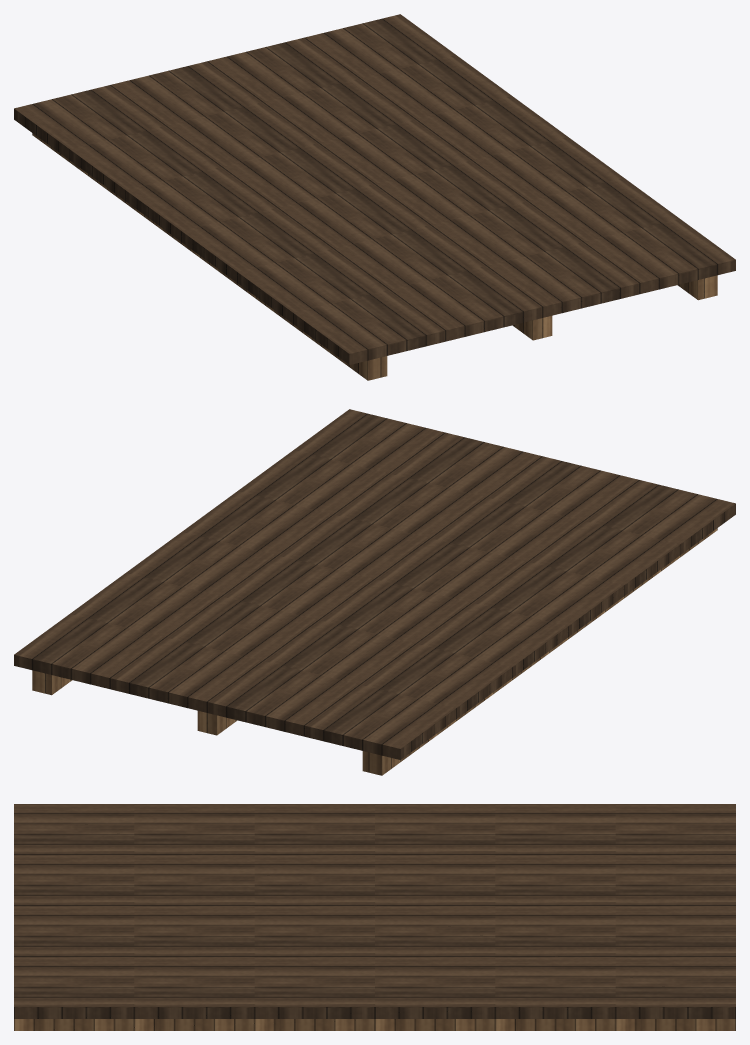
File: Drawbridge_1_LOD2.gltf
3 renders of one model, top to bottom at view 1: azimuth 30°, elevation 25°; view 2: azimuth 150°, elevation 25°; view 3: azimuth 270°, elevation 25°, orthographic. The views are drawn at different scales.
Parts seen in each view (by area): view 1: Drawbridge_1_LOD2; view 2: Drawbridge_1_LOD2; view 3: Drawbridge_1_LOD2.
Part boxes in pixels (x1,y1,x2,y2): Drawbridge_1_LOD2: [14, 14, 735, 380]; Drawbridge_1_LOD2: [14, 409, 735, 775]; Drawbridge_1_LOD2: [14, 804, 735, 1030].
Bounding box in the file's own units: 3.98 × 0.3084 × 5.98.
2 materials, 2 textured.
